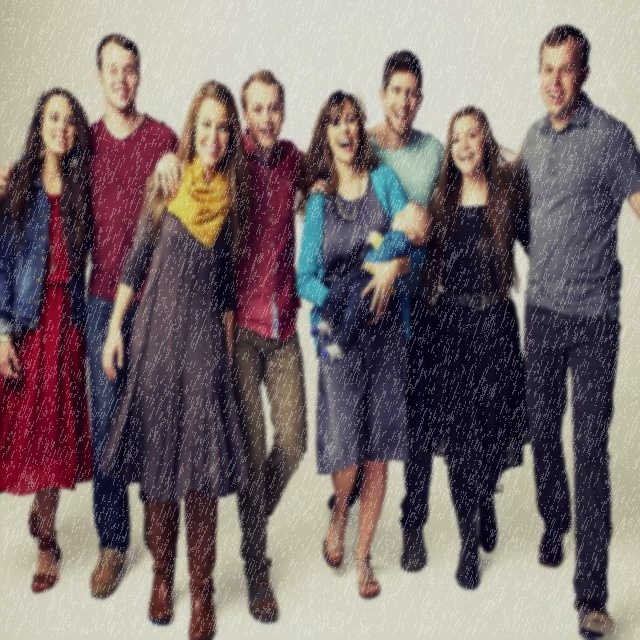pessoa: (153, 66, 387, 624), (98, 78, 259, 639), (496, 23, 639, 639), (293, 88, 427, 603), (72, 32, 183, 603), (0, 85, 123, 594), (406, 103, 533, 592), (358, 47, 442, 570), (308, 200, 434, 363)
